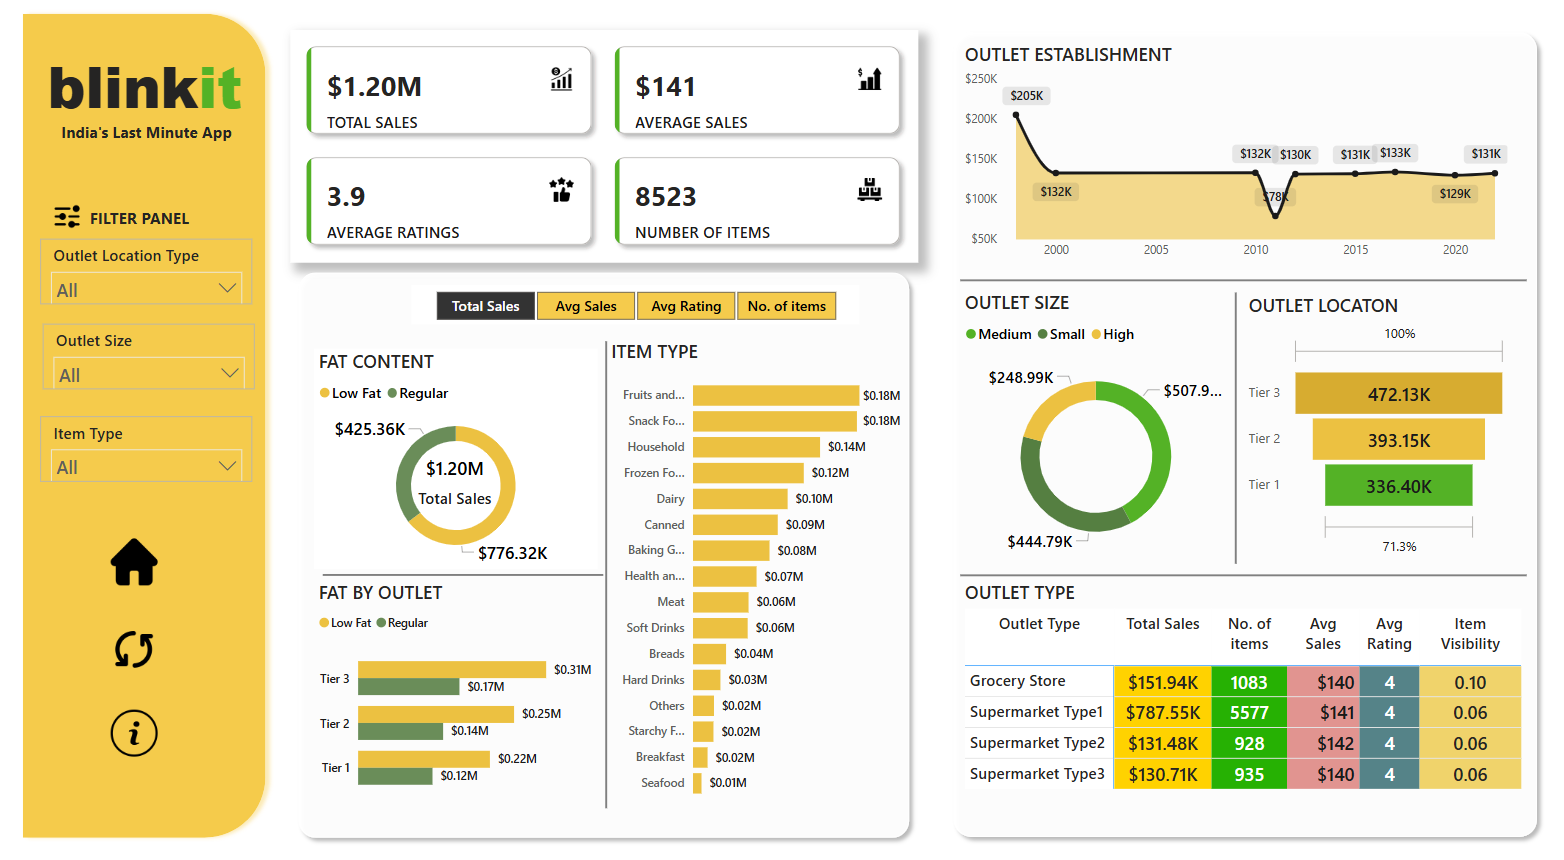

The page's visual inventory and layout, read from the dashboard file:
{"tool":"powerbi","page":{"name":"Dashboard","canvas":[1600,900],"ordinal":0},"visuals":[{"type":"shape","box":[0,10,270,873.3],"z":0},{"type":"textbox","box":[30,48.6,232.9,95.7],"z":1000},{"type":"textbox","box":[44.3,125.7,205.7,37.1],"z":2000},{"type":"cardVisual","fields":{"Data":["BlinkIT Grocery Data.Total Sales","BlinkIT Grocery Data.Avg Sales","BlinkIT Grocery Data.Avg Rating","BlinkIT Grocery Data.Number of items"]},"box":[286.7,36.7,651.7,241.7],"z":3000},{"type":"shape","box":[286.7,278.3,651.7,605],"z":4000},{"type":"donutChart","title":"FAT CONTENT","fields":{"Y":["BlinkIT Grocery Data.Total Sales"],"Category":["BlinkIT Grocery Data.Item Fat Content"]},"box":[311.7,367.3,294.3,228.6],"z":5000},{"type":"slicer","fields":{"Values":["Metrics.Metrics"]},"box":[413.2,301.6,464.5,40.7],"z":6000},{"type":"card","fields":{"Values":["BlinkIT Grocery Data.Total Sales"]},"box":[406.7,456.7,103.3,95],"z":7000},{"type":"clusteredBarChart","title":"FAT BY OUTLET","fields":{"Y":["BlinkIT Grocery Data.Total Sales"],"Category":["BlinkIT Grocery Data.Outlet Location Type"],"Series":["BlinkIT Grocery Data.Item Fat Content"]},"box":[311.7,606.7,295,238.3],"z":8000},{"type":"shape","box":[320,580,291.4,44.3],"z":9000},{"type":"shape","box":[595,360,38.3,485],"z":10000},{"type":"barChart","title":"ITEM TYPE","fields":{"Y":["BlinkIT Grocery Data.Total Sales"],"Category":["BlinkIT Grocery Data.Item Type"]},"box":[615,356.7,310,488.3],"z":11000},{"type":"shape","box":[966.7,30,623.3,853.3],"z":12000},{"type":"lineChart","title":"OUTLET ESTABLISHMENT","fields":{"Category":["BlinkIT Grocery Data.Outlet Establishment Year"],"Y":["BlinkIT Grocery Data.Total Sales"]},"box":[981.7,48.3,573.3,235],"z":13000},{"type":"shape","box":[981.7,279,588.1,34.7],"z":14000},{"type":"donutChart","title":"OUTLET SIZE","fields":{"Y":["BlinkIT Grocery Data.Total Sales"],"Category":["BlinkIT Grocery Data.Outlet Size"]},"box":[981.7,306.1,282,289.5],"z":15000},{"type":"shape","box":[1248.3,308.3,40,281.7],"z":16000},{"type":"funnel","title":"OUTLET LOCATON","fields":{"Y":["Sum(BlinkIT Grocery Data.Sales)"],"Category":["BlinkIT Grocery Data.Outlet Location Type"]},"box":[1276.7,308.3,278.3,280],"z":17000},{"type":"shape","box":[981.7,585.1,588.1,34.7],"z":18000},{"type":"pivotTable","title":"OUTLET TYPE","fields":{"Rows":["BlinkIT Grocery Data.Outlet Type"],"Values":["BlinkIT Grocery Data.Total Sales","BlinkIT Grocery Data.No. of items","BlinkIT Grocery Data.Avg Sales","BlinkIT Grocery Data.Avg Rating","Avg(BlinkIT Grocery Data.Item Visibility)"]},"box":[981.7,606.7,588.3,238.3],"z":19000},{"type":"slicer","fields":{"Values":["BlinkIT Grocery Data.Outlet Location Type"]},"box":[26.7,253.3,220,68.3],"z":20000},{"type":"slicer","fields":{"Values":["BlinkIT Grocery Data.Outlet Size"]},"box":[30,341.7,220,68.3],"z":21000},{"type":"slicer","fields":{"Values":["BlinkIT Grocery Data.Item Type"]},"box":[26.7,436.7,220,68.3],"z":22000},{"type":"textbox","box":[74.2,215.7,123.7,37.7],"z":23000},{"type":"image","box":[95,559.5,60.3,58.8],"z":24000},{"type":"image","box":[36.5,206.6,37.7,46.7],"z":25000},{"type":"image","box":[95,650,60.3,58.8],"z":26000},{"type":"image","box":[95,737.4,60.3,58.8],"z":28000}]}

Visuals, with their boxes in screenshot pixels (x1, y1, x2, y2), scaled from the page's 1600x900 canvas onto the 1564x860 screenshot:
shape: BBox(0, 10, 264, 844)
textbox: BBox(29, 46, 257, 138)
textbox: BBox(43, 120, 244, 156)
cardVisual - BlinkIT Grocery Data.Total Sales x BlinkIT Grocery Data.Avg Sales: BBox(280, 35, 917, 266)
shape: BBox(280, 266, 917, 844)
"FAT CONTENT" donutChart: BBox(305, 351, 592, 569)
slicer - Metrics.Metrics: BBox(404, 288, 858, 327)
card - BlinkIT Grocery Data.Total Sales: BBox(398, 436, 499, 527)
"FAT BY OUTLET" clusteredBarChart: BBox(305, 580, 593, 807)
shape: BBox(313, 554, 598, 597)
shape: BBox(582, 344, 619, 807)
"ITEM TYPE" barChart: BBox(601, 341, 904, 807)
shape: BBox(945, 29, 1554, 844)
"OUTLET ESTABLISHMENT" lineChart: BBox(960, 46, 1520, 271)
shape: BBox(960, 267, 1534, 300)
"OUTLET SIZE" donutChart: BBox(960, 292, 1235, 569)
shape: BBox(1220, 295, 1259, 564)
"OUTLET LOCATON" funnel: BBox(1248, 295, 1520, 562)
shape: BBox(960, 559, 1534, 592)
"OUTLET TYPE" pivotTable: BBox(960, 580, 1535, 807)
slicer - BlinkIT Grocery Data.Outlet Location Type: BBox(26, 242, 241, 307)
slicer - BlinkIT Grocery Data.Outlet Size: BBox(29, 327, 244, 392)
slicer - BlinkIT Grocery Data.Item Type: BBox(26, 417, 241, 483)
textbox: BBox(73, 206, 193, 242)
image: BBox(93, 535, 152, 591)
image: BBox(36, 197, 73, 242)
image: BBox(93, 621, 152, 677)
image: BBox(93, 705, 152, 761)
